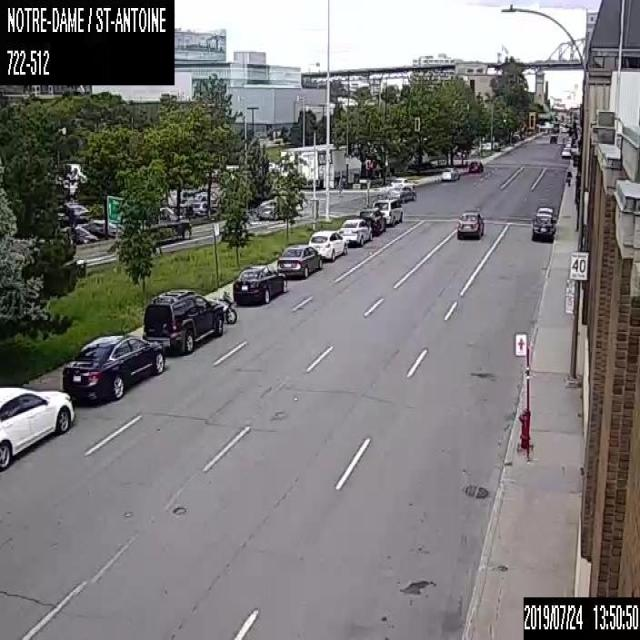pedestrian: (565, 168, 570, 184)
vehicle: (62, 332, 164, 402), (0, 385, 74, 470), (142, 288, 223, 352), (233, 264, 286, 302), (151, 205, 191, 244), (276, 244, 322, 276), (308, 228, 347, 260), (208, 288, 236, 327), (338, 217, 371, 246), (372, 197, 402, 225), (456, 209, 484, 239), (359, 206, 385, 234), (530, 213, 554, 241), (386, 185, 416, 202), (258, 199, 278, 220), (73, 225, 97, 242), (68, 204, 89, 220), (389, 176, 414, 188), (536, 205, 554, 219), (467, 159, 483, 172), (442, 168, 458, 180), (561, 145, 571, 159), (548, 133, 556, 143)
